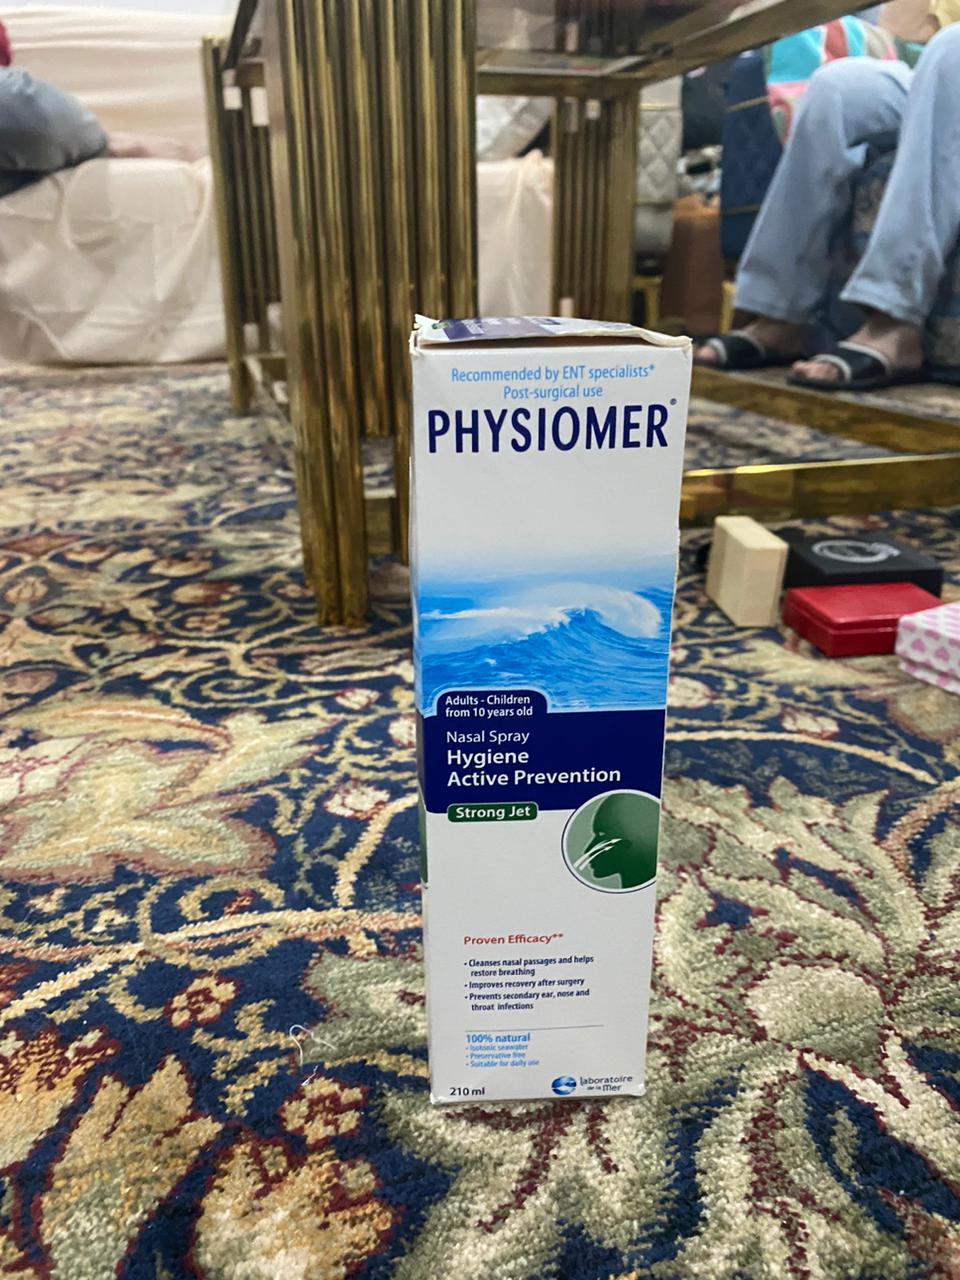Black Box: (794, 527, 947, 587)
Physiomer: (404, 316, 698, 1105)
Pink Box: (901, 594, 960, 700)
Red Box: (793, 583, 945, 652)
Yellow Box: (705, 518, 788, 634)
